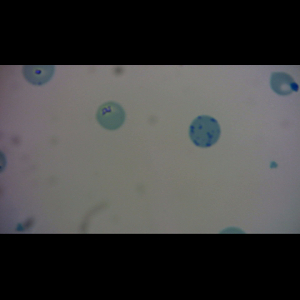aggregate reticulocyte: (188, 114, 222, 149)
erythrocyte: (95, 100, 126, 132), (267, 68, 300, 97)
